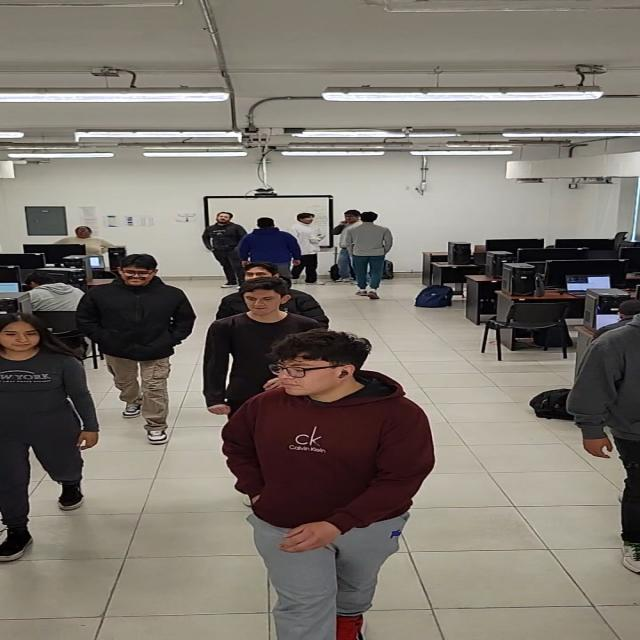Persona: (230, 332, 410, 630), (3, 316, 97, 564), (100, 259, 172, 412), (218, 282, 296, 357), (342, 212, 396, 302), (244, 212, 296, 274), (294, 213, 332, 281), (204, 206, 239, 272), (64, 226, 117, 263)
